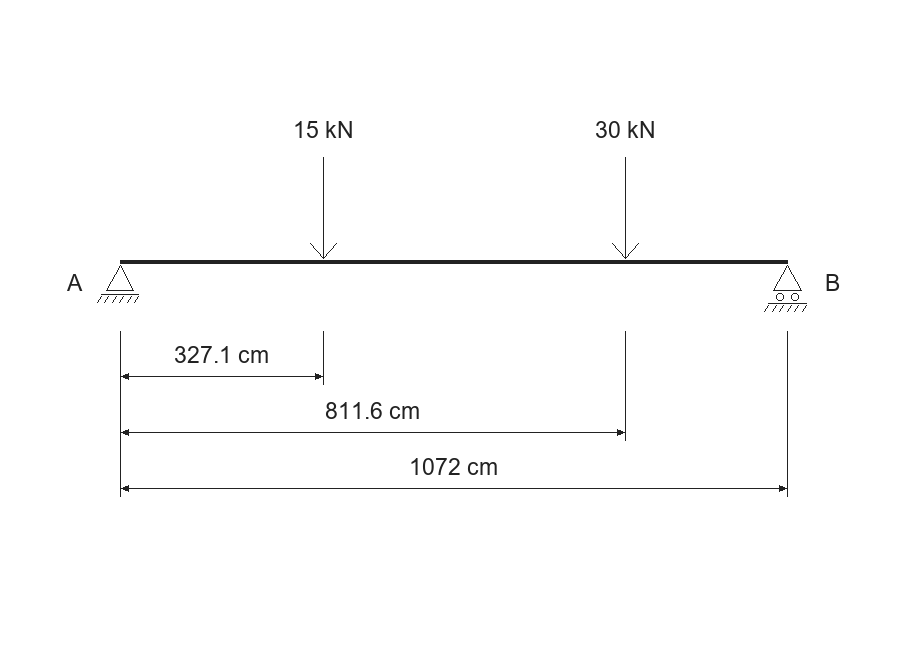pin_support: (97, 265, 139, 303)
point_load: (310, 157, 337, 259), (612, 157, 639, 259)
roller_support: (764, 265, 807, 312)
